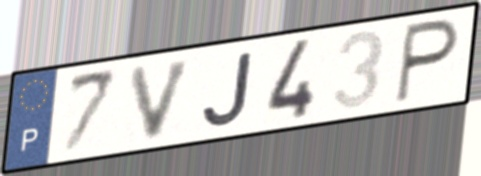3: (330, 26, 392, 114)
4: (263, 35, 319, 124)
7: (63, 64, 121, 158)
J: (198, 49, 255, 130)
P: (391, 15, 463, 107)
V: (127, 54, 198, 143)
